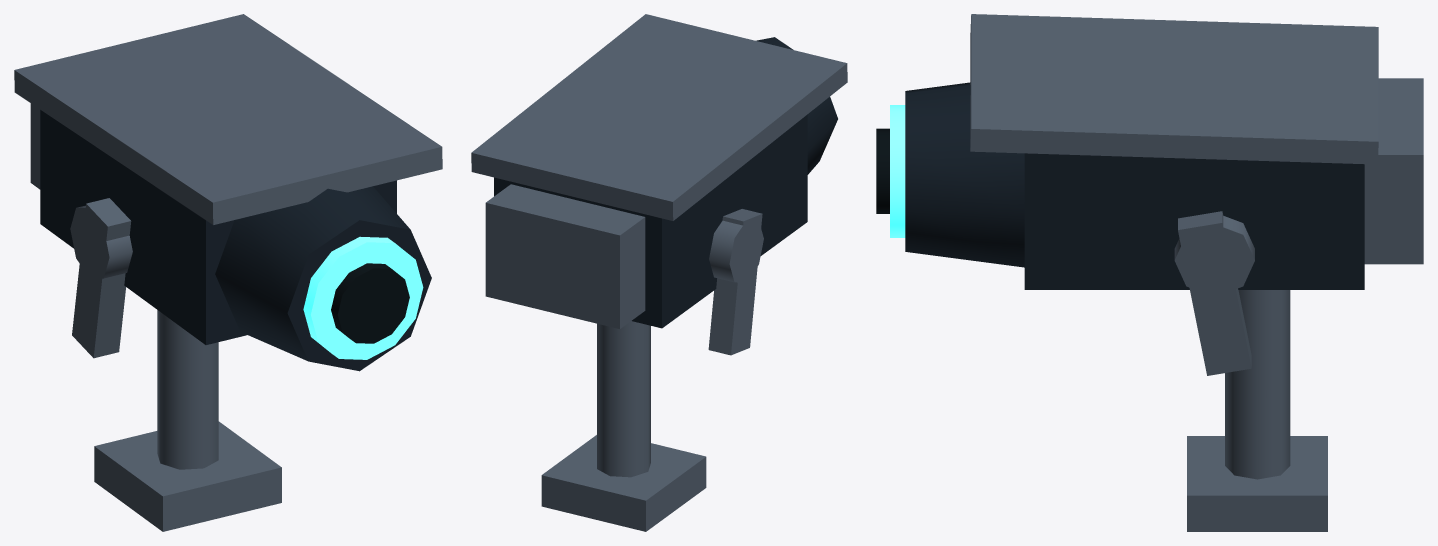
Rendered from agent-os-low-poly-camera.glb.
3 renders of one model, left to right at view 1: azimuth 30°, elevation 25°; view 2: azimuth 150°, elevation 25°; view 3: azimuth 270°, elevation 25°, orthographic. The views are drawn at different scales.
Visible parts, largest first — view 1: sun-shield, camera-body, lens-hood, mount-base, mount-stem, cyan-lens-ring, left-yoke, lens-glass, tilt-axle, rear-cap; view 2: sun-shield, rear-cap, camera-body, mount-base, mount-stem, left-yoke, tilt-axle, lens-hood; view 3: sun-shield, camera-body, lens-hood, mount-base, mount-stem, rear-cap, right-yoke, tilt-axle, cyan-lens-ring, lens-glass.
Boxes of the visible parts, x1,y1,x2,y2 form: sun-shield: (14,14,442,224); camera-body: (40,110,396,344); lens-hood: (215,186,431,371); mount-base: (94,421,281,531); mount-stem: (157,310,218,469); cyan-lens-ring: (303,236,423,359); left-yoke: (72,198,131,358); lens-glass: (331,263,409,343); tilt-axle: (70,205,132,278); rear-cap: (30,103,40,189); sun-shield: (471,14,847,220); rear-cap: (485,184,645,328); camera-body: (494,114,807,328); mount-base: (541,435,706,531); mount-stem: (597,321,650,477); left-yoke: (708,209,762,355); tilt-axle: (709,220,763,282); lens-hood: (756,37,837,174); sun-shield: (970,14,1378,164); camera-body: (1024,153,1364,289); lens-hood: (905,82,1024,267); mount-base: (1187,436,1327,531); mount-stem: (1225,290,1290,479); rear-cap: (1364,78,1423,264); right-yoke: (1178,211,1251,375); tilt-axle: (1174,216,1254,296); cyan-lens-ring: (890,105,905,237); lens-glass: (876,128,889,213).
Size of the model in its own units: 1.12 by 1.89 by 2.17.
